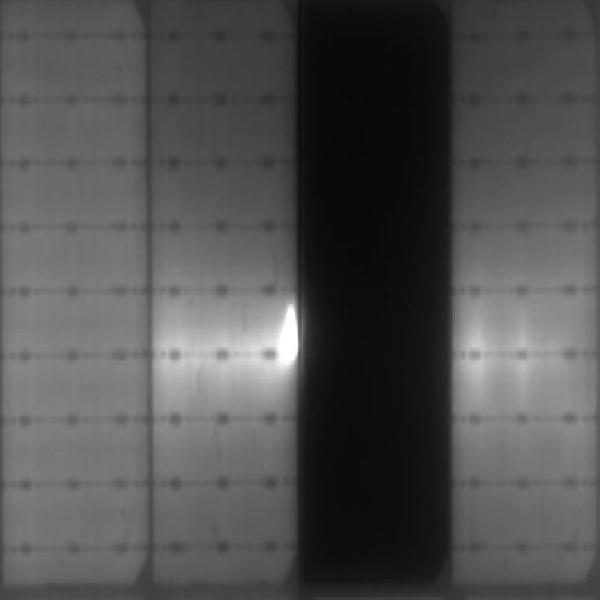hot_spot: (276, 302, 299, 369)
no_electricity: (299, 4, 451, 586)
